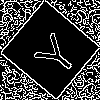Y: (25, 25, 81, 81)
